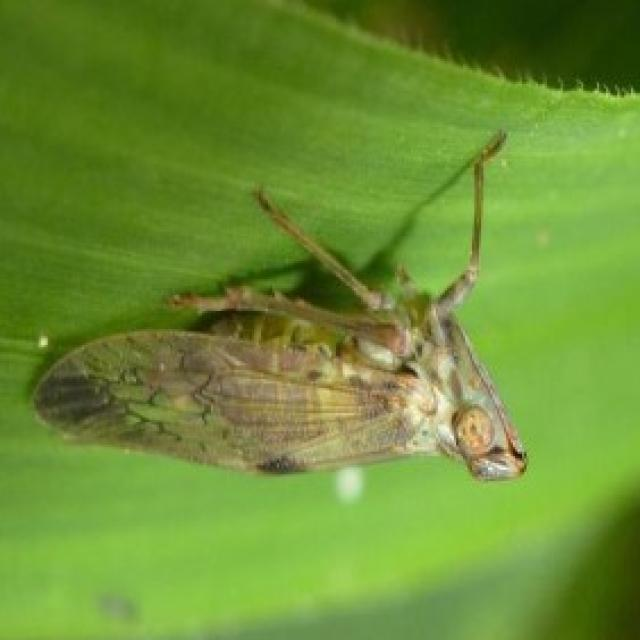brown plant hopper: (34, 136, 524, 481)
